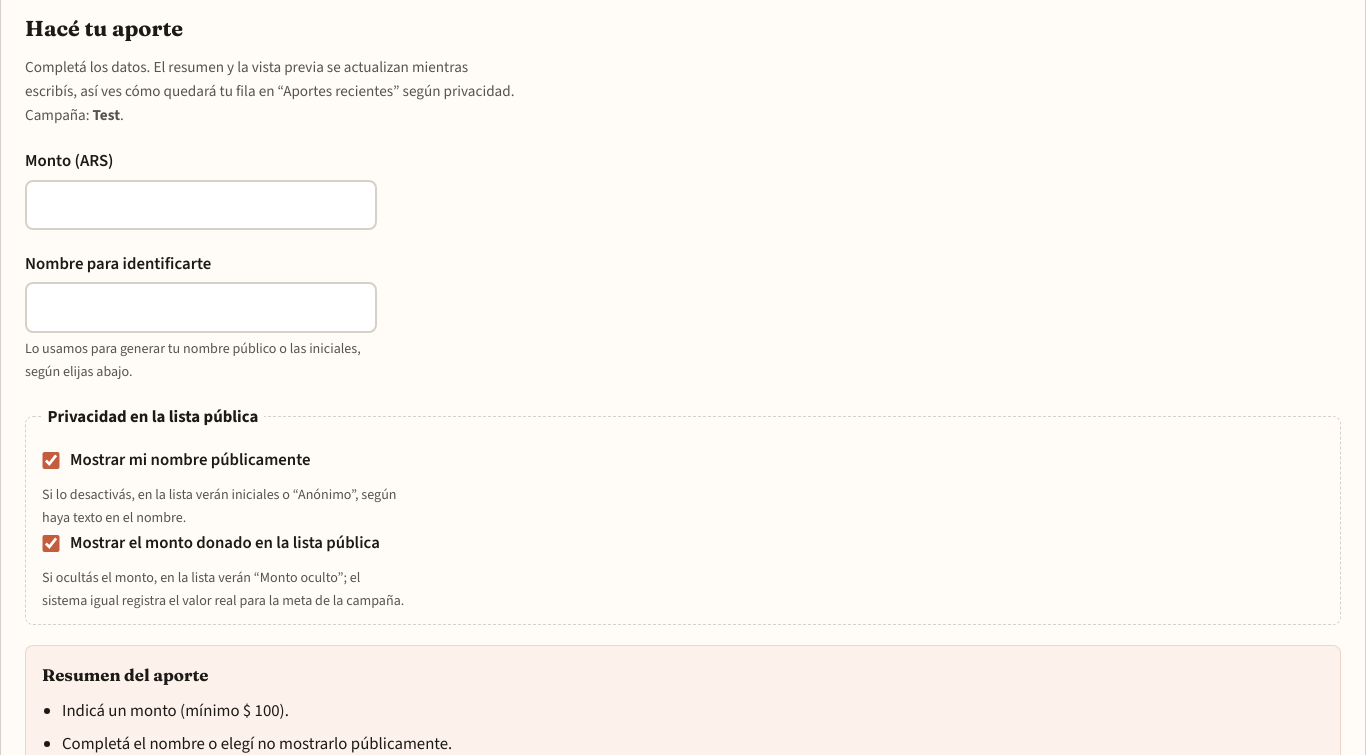
Scenario: ContributionForm — comportamiento observable (smart-testing) › con datos válidos, envía POST al borde de red con el JSON acordado y muestra la respuesta del servidor
Type "1000" into the number field labelled "Monto (ARS)" at (201, 205), box [25,180,377,230]
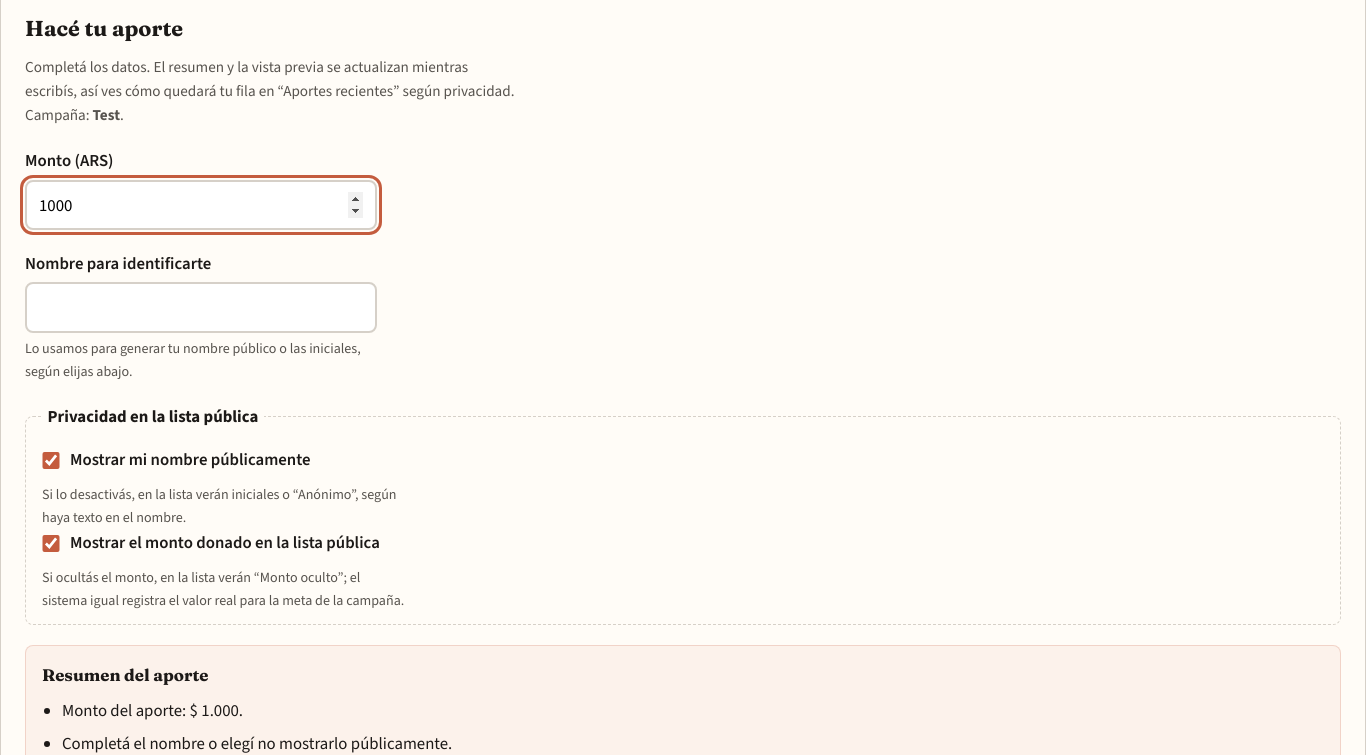
Type "Ana López" into the field labelled "Nombre para identificarte" at (201, 308), box [25,282,377,333]
(page scrolled)
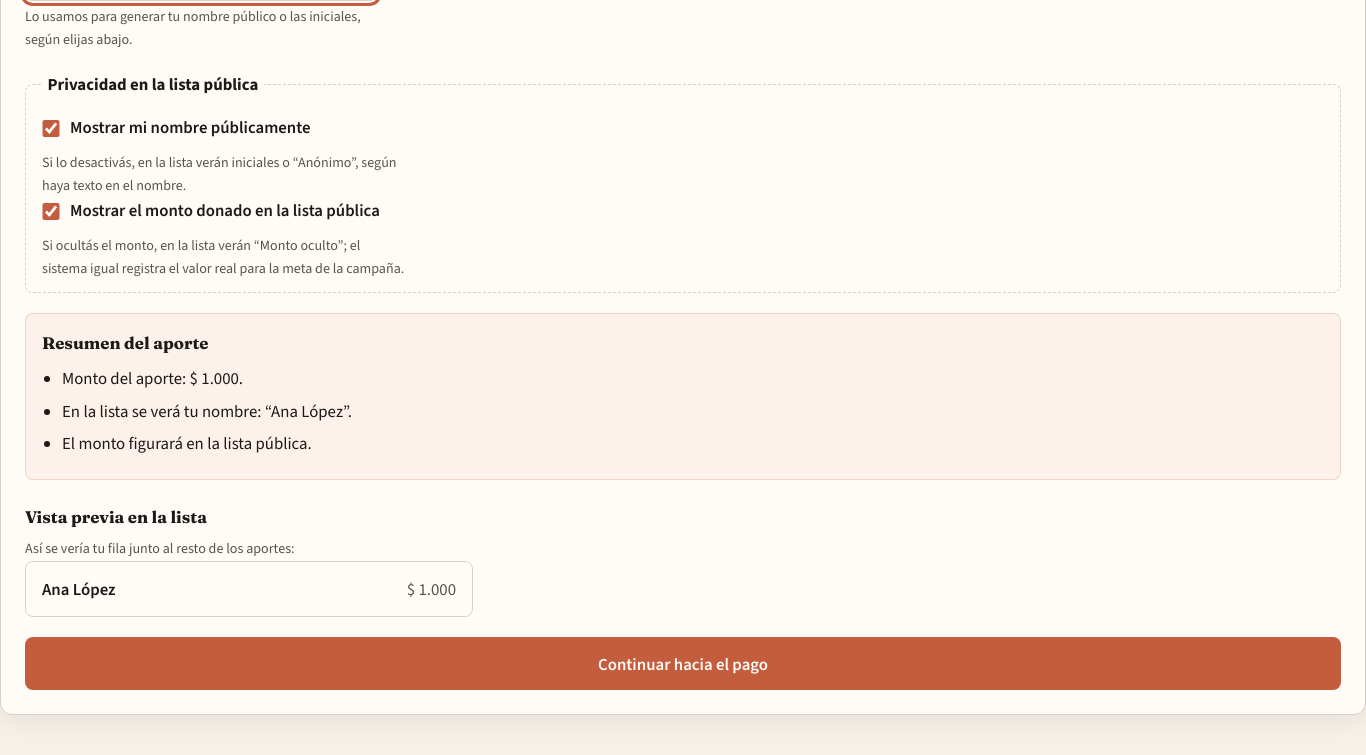
Click the button "Continuar hacia el pago" at (683, 664), box [25,637,1341,690]
(page scrolled)
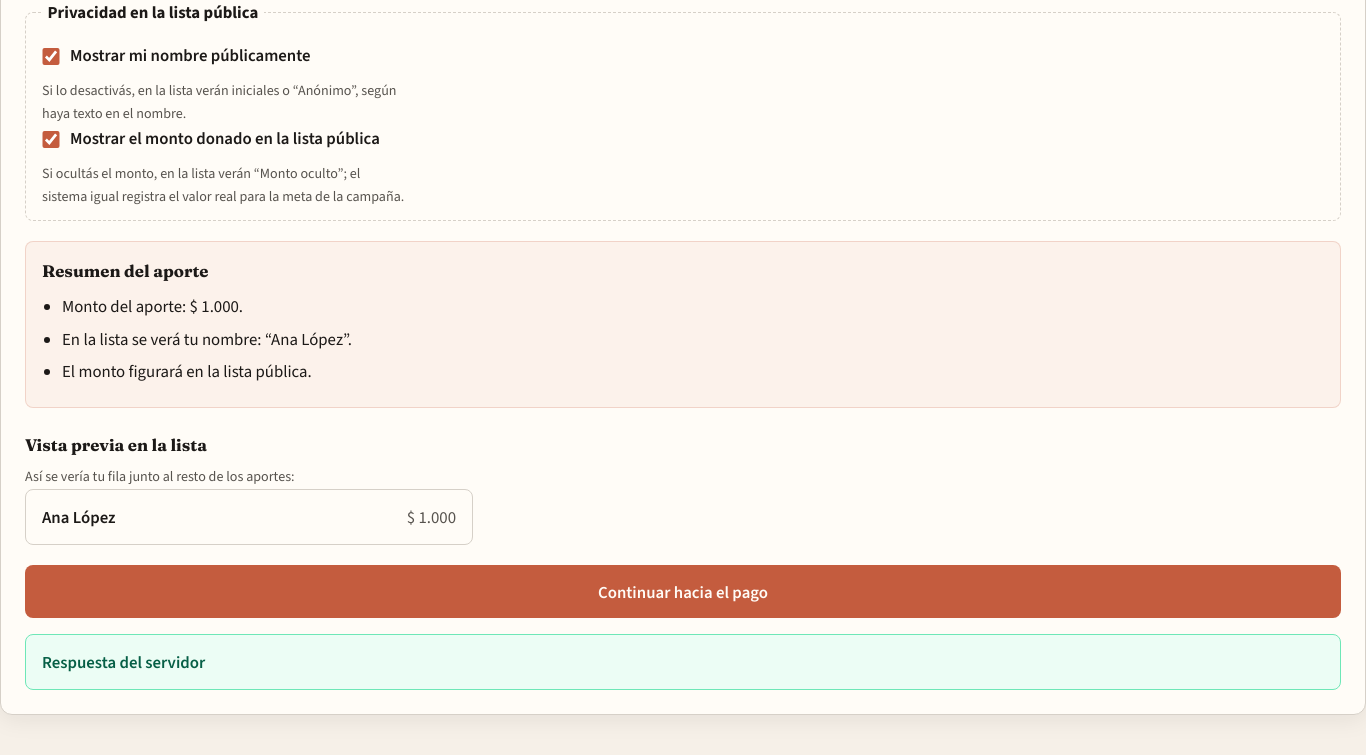
expect the text "Respuesta del servidor" is shown: met, box [25,634,1341,690]
